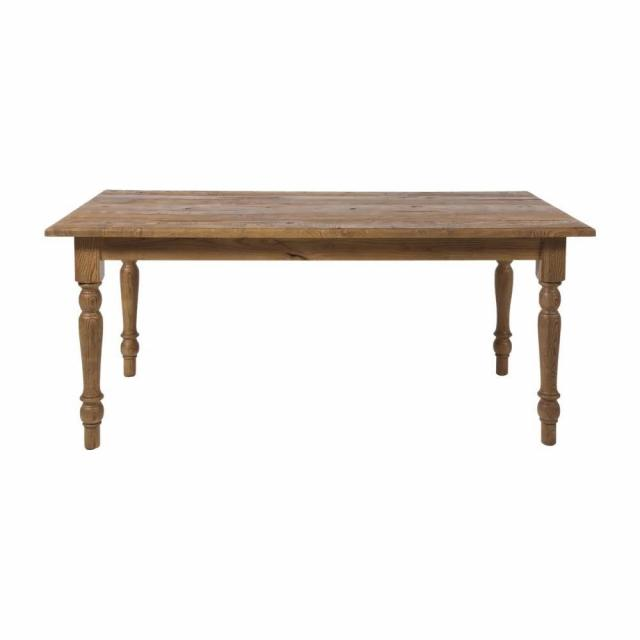Table: (31, 164, 610, 476)
